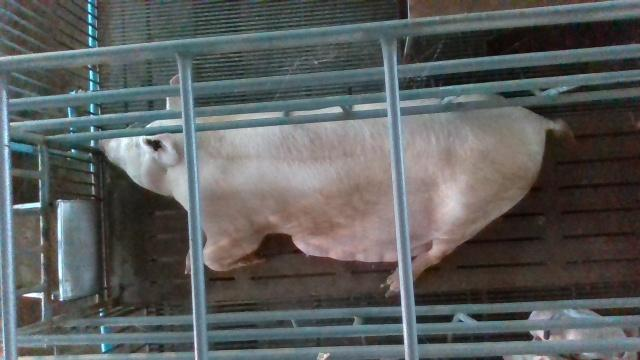piglet: (529, 307, 639, 360)
sow-sleep: (97, 73, 572, 296)
